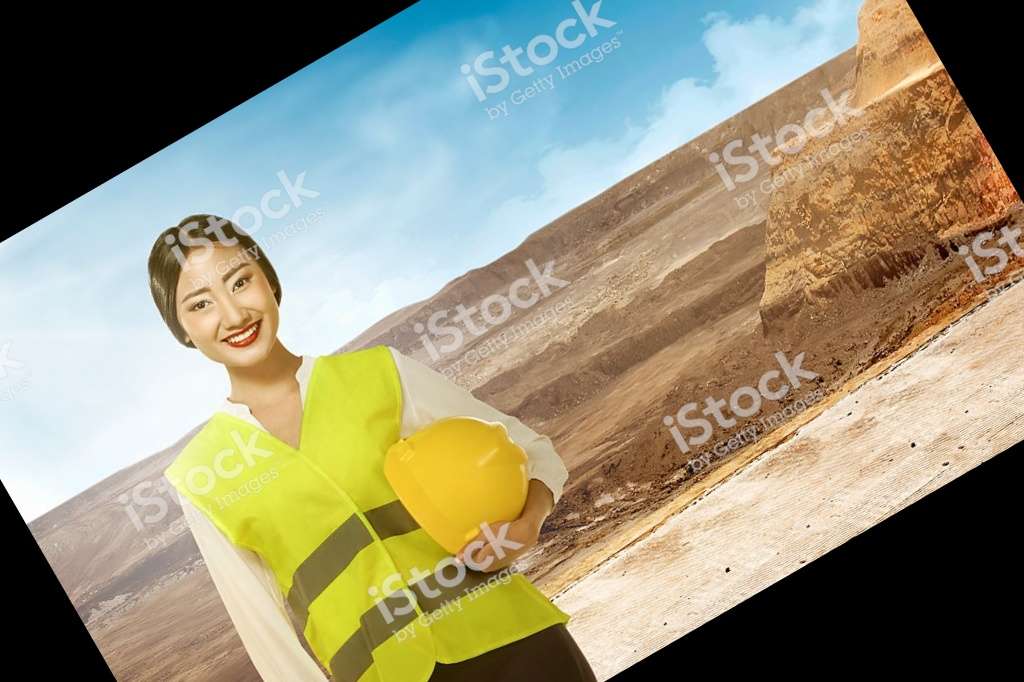NoHardhat: (163, 213, 513, 682)
